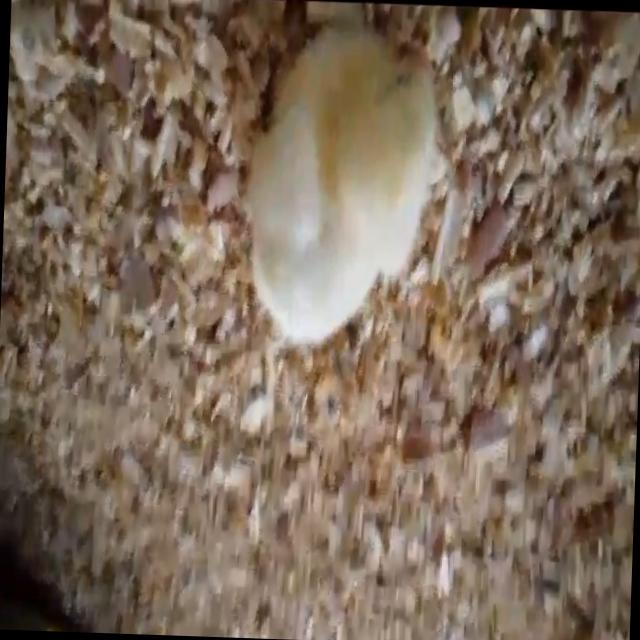sleeping chickens: (224, 28, 458, 346)
